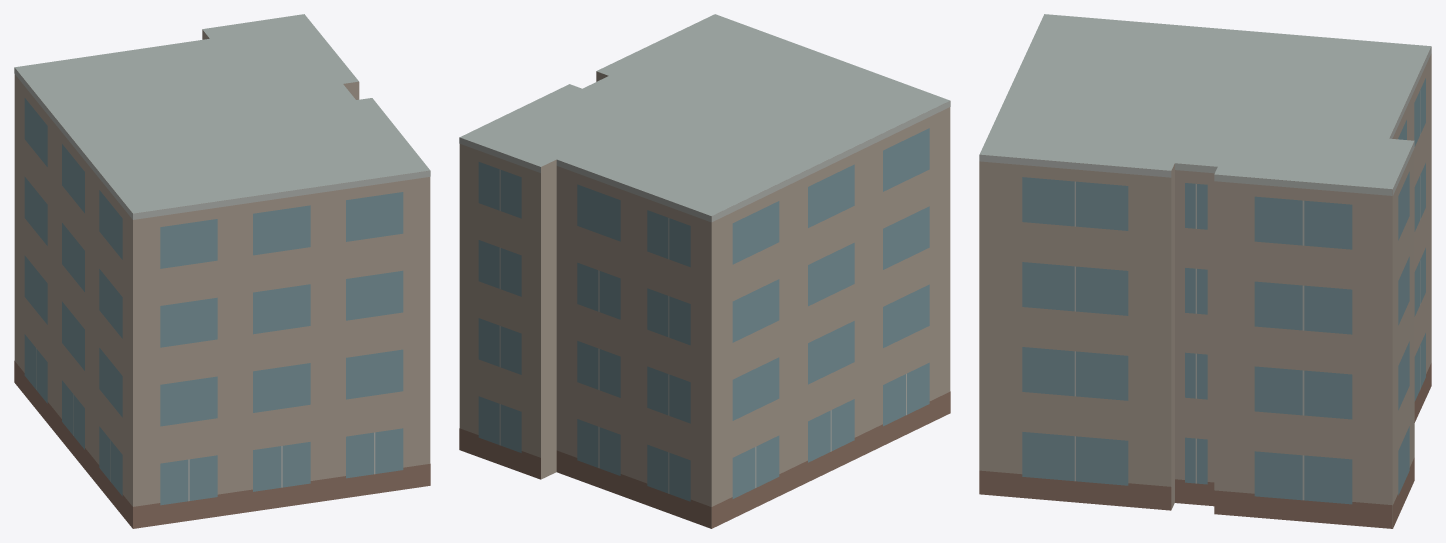
File: survey-upis-32689105.glb
3 views of the same model, side by side, from view 1: azimuth 30°, elevation 25°; view 2: azimuth 150°, elevation 25°; view 3: azimuth 270°, elevation 25° (orthographic). The views are drawn at different scales.
Visible parts, largest first — view 1: survey-upis-32689105.tmp; view 2: survey-upis-32689105.tmp; view 3: survey-upis-32689105.tmp.
Part boxes in pixels (x1=…): survey-upis-32689105.tmp: x1=14, y1=14, x2=430, y2=528; survey-upis-32689105.tmp: x1=459, y1=14, x2=950, y2=528; survey-upis-32689105.tmp: x1=979, y1=14, x2=1431, y2=528.
Bounding box in the file's own units: 13.51 × 12.2 × 14.73.
